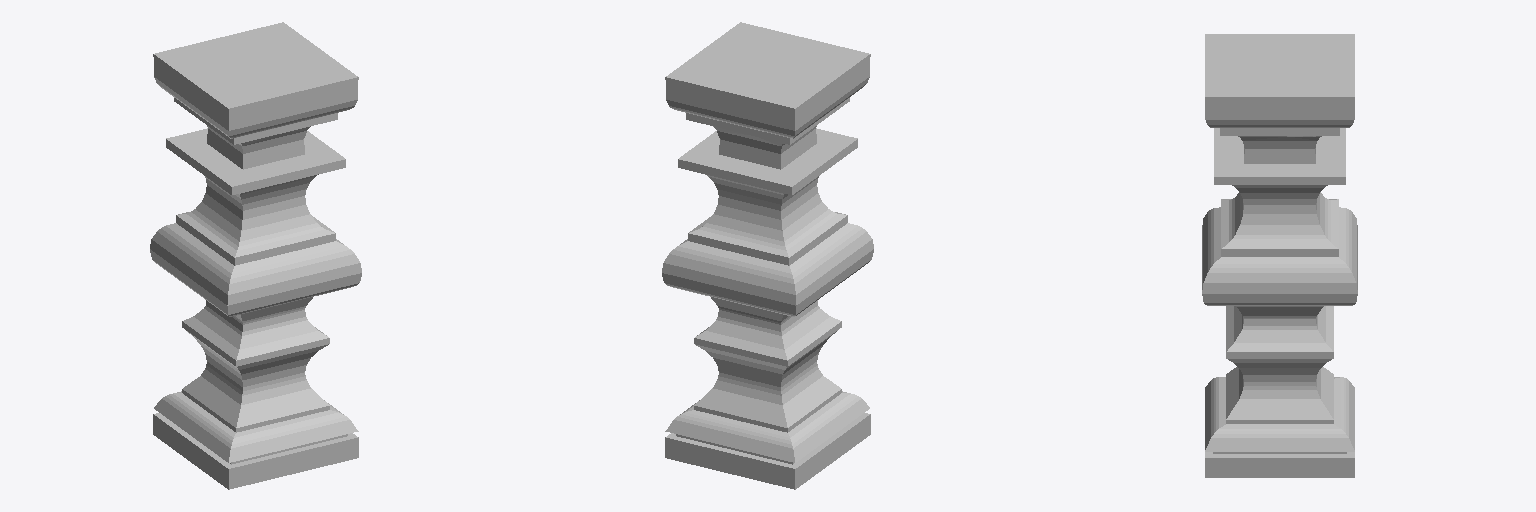
Rendered from gothic.obj.
3 renders of one model, left to right at view 1: azimuth 30°, elevation 25°; view 2: azimuth 150°, elevation 25°; view 3: azimuth 270°, elevation 25°, orthographic.
Visible parts, largest first — view 1: misc_models3D; view 2: misc_models3D; view 3: misc_models3D.
Boxes of the visible parts, x1=… form: misc_models3D: x1=150, y1=22, x2=361, y2=489; misc_models3D: x1=662, y1=22, x2=873, y2=489; misc_models3D: x1=1202, y1=34, x2=1357, y2=477.
Size of the model in its own units: 0.3373 by 0.91 by 0.3373.